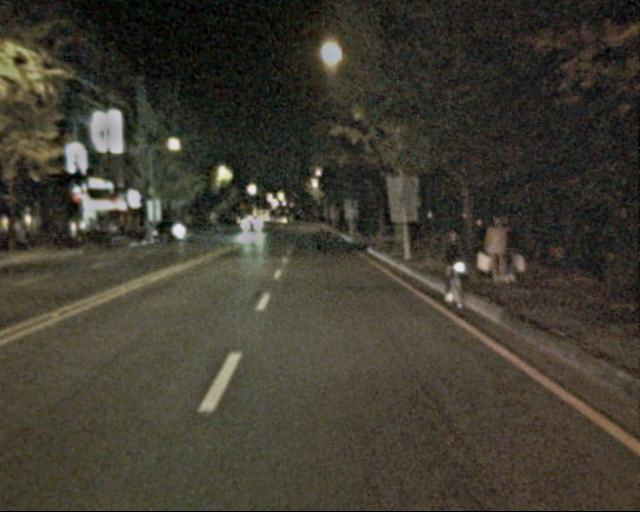person: (435, 227, 471, 309), (497, 216, 525, 280), (483, 217, 510, 283)
